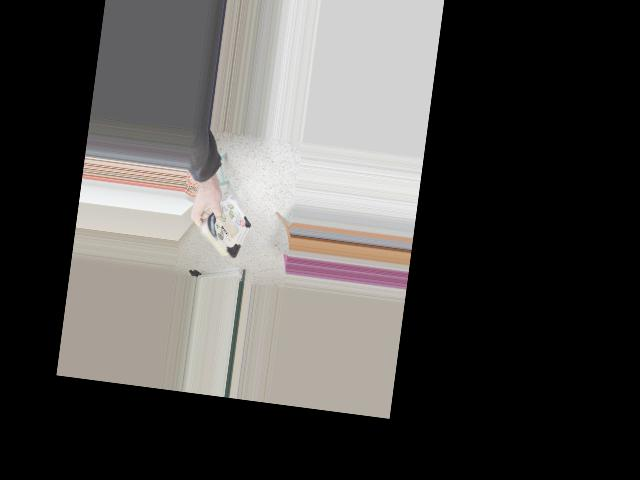cheese: (180, 197, 260, 261)
